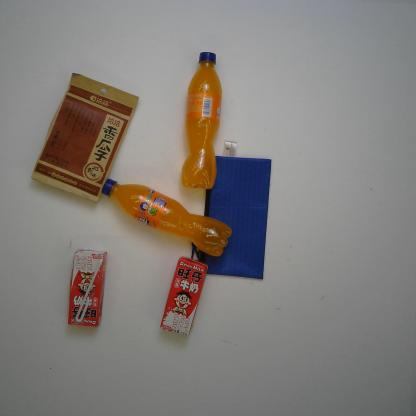Dried Food: (30, 72, 139, 203)
Drink: (101, 178, 232, 257), (181, 51, 223, 190)
Milk: (160, 257, 209, 338), (68, 249, 107, 327)
Stationery: (191, 140, 272, 281)
